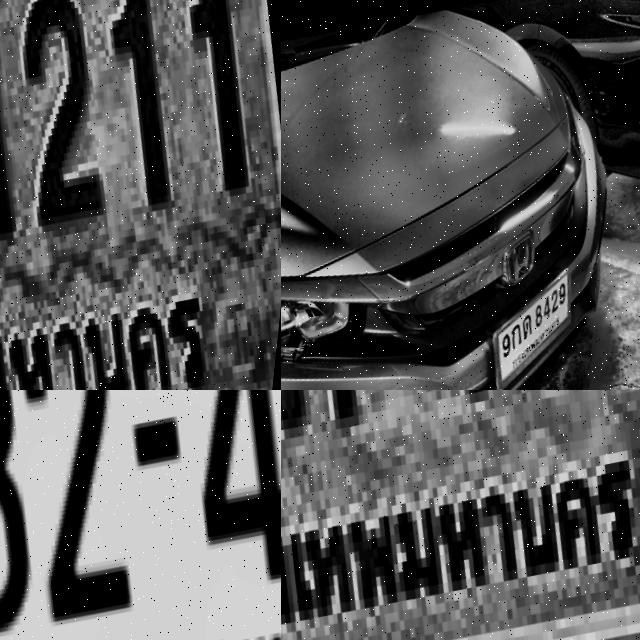license-plate: (0, 0, 281, 390), (281, 390, 640, 640), (0, 390, 281, 640), (477, 260, 598, 390)
